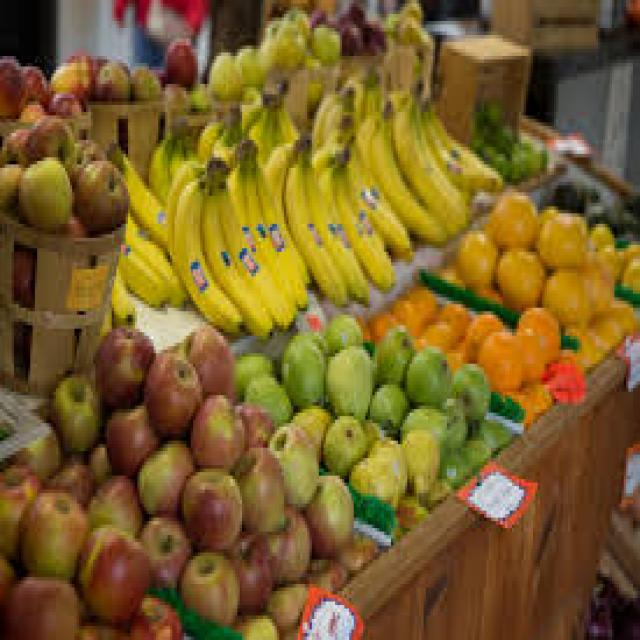organic waste: (260, 133, 344, 297), (354, 84, 440, 231), (202, 168, 272, 332), (216, 175, 291, 325), (340, 101, 414, 252), (238, 154, 308, 308), (391, 95, 468, 228), (175, 172, 238, 332), (307, 136, 368, 301), (419, 87, 503, 196), (335, 143, 393, 287), (74, 521, 149, 619), (116, 220, 184, 308), (16, 489, 86, 574), (111, 143, 168, 245), (90, 322, 154, 412), (4, 566, 82, 636), (142, 346, 202, 434), (179, 465, 240, 549), (186, 388, 242, 469), (135, 437, 191, 518), (179, 546, 235, 626), (47, 367, 100, 451), (70, 154, 128, 227), (230, 444, 280, 528), (105, 399, 156, 479), (242, 84, 303, 150), (303, 472, 352, 553), (263, 420, 312, 500), (138, 514, 188, 591), (179, 322, 233, 392), (226, 528, 272, 609), (324, 339, 370, 416), (0, 462, 37, 556), (7, 413, 58, 479), (261, 504, 307, 577), (147, 126, 193, 199), (23, 154, 70, 224), (586, 570, 638, 633), (540, 259, 589, 325), (282, 329, 326, 402), (310, 80, 356, 147), (84, 472, 135, 532), (535, 206, 589, 262), (396, 423, 435, 500), (494, 245, 544, 304), (319, 409, 363, 476), (402, 342, 447, 406), (484, 192, 535, 248), (349, 455, 393, 514), (202, 101, 245, 161), (126, 588, 179, 636), (370, 325, 412, 385), (26, 115, 72, 168), (479, 325, 519, 385), (449, 356, 486, 419), (370, 434, 407, 496), (456, 224, 494, 283), (516, 304, 558, 357), (230, 350, 272, 402), (46, 454, 88, 504), (463, 307, 500, 363), (52, 42, 88, 98), (288, 402, 326, 455), (263, 581, 307, 626), (386, 0, 430, 45), (242, 374, 289, 416), (366, 378, 400, 433), (258, 14, 296, 63), (226, 157, 251, 231), (398, 402, 442, 444), (561, 322, 598, 371), (0, 52, 26, 119), (512, 322, 542, 378), (163, 35, 195, 87), (305, 552, 344, 594), (207, 49, 240, 98), (321, 308, 363, 346), (500, 136, 544, 172), (74, 608, 130, 636), (577, 308, 617, 346), (438, 395, 466, 448), (105, 273, 130, 332), (88, 59, 125, 98), (238, 402, 272, 444), (600, 297, 636, 336), (335, 535, 375, 570), (391, 297, 424, 336), (233, 42, 263, 84), (230, 608, 274, 636), (274, 3, 305, 42), (12, 238, 32, 297), (310, 18, 338, 60), (470, 413, 507, 444), (405, 280, 435, 318), (356, 14, 386, 52), (86, 437, 109, 486), (389, 91, 412, 140), (46, 88, 84, 116), (0, 126, 30, 161), (128, 60, 158, 94), (505, 388, 531, 427), (586, 266, 610, 308), (440, 301, 468, 336), (438, 448, 466, 482), (0, 552, 12, 630), (458, 430, 486, 462), (19, 98, 51, 126), (158, 80, 186, 112), (21, 63, 44, 101), (0, 161, 19, 206), (586, 242, 614, 270), (426, 318, 454, 346), (363, 308, 391, 336), (621, 252, 638, 294), (524, 378, 547, 409), (587, 217, 612, 241), (421, 476, 442, 504), (305, 3, 333, 24), (488, 119, 516, 140), (338, 17, 356, 49), (396, 497, 419, 521), (188, 80, 210, 105), (444, 339, 461, 371), (347, 0, 365, 28), (56, 210, 84, 227), (465, 126, 482, 150), (484, 98, 500, 122), (610, 245, 621, 273), (473, 98, 484, 126), (621, 234, 638, 252), (493, 154, 505, 175), (482, 140, 493, 161)
